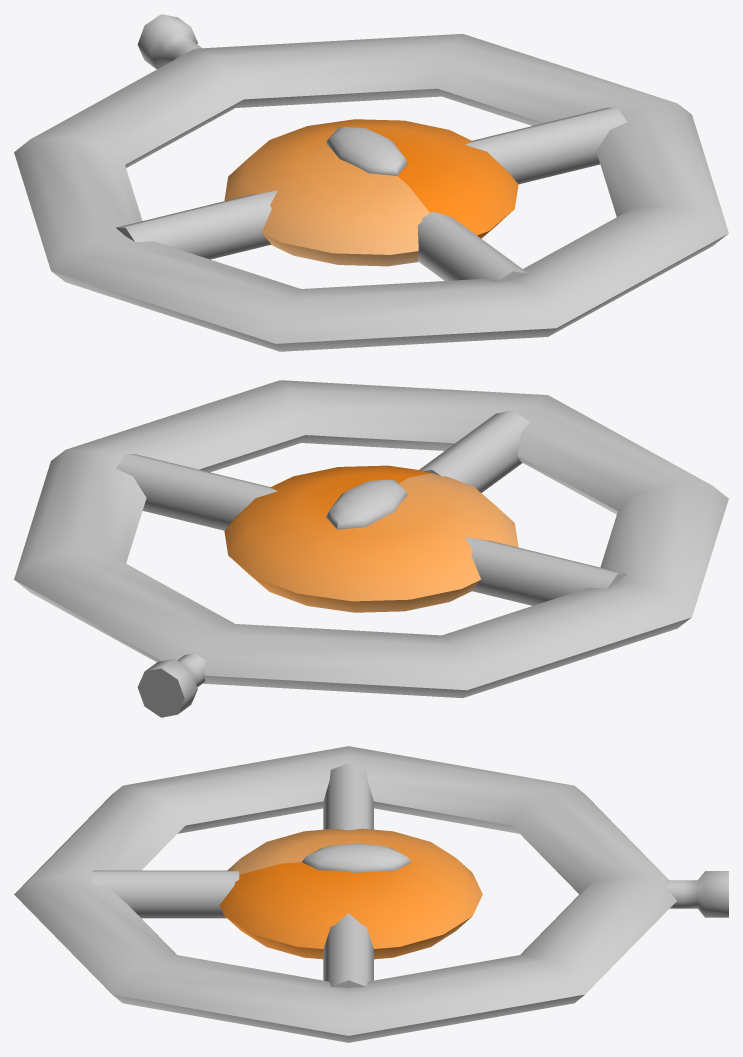
Rendered from Enemy_Ship_C.obj.
3 views of the same model, one above another, from view 1: azimuth 30°, elevation 25°; view 2: azimuth 150°, elevation 25°; view 3: azimuth 270°, elevation 25° (orthographic). The views are drawn at different scales.
Parts seen in each view (by area): view 1: polymsh; view 2: polymsh; view 3: polymsh.
Part boxes in pixels (x1,y1,x2,y2): polymsh: (14, 14, 728, 351); polymsh: (14, 380, 728, 717); polymsh: (14, 746, 728, 1042).
Size of the model in its own units: 8.88 by 1.2 by 9.49.
